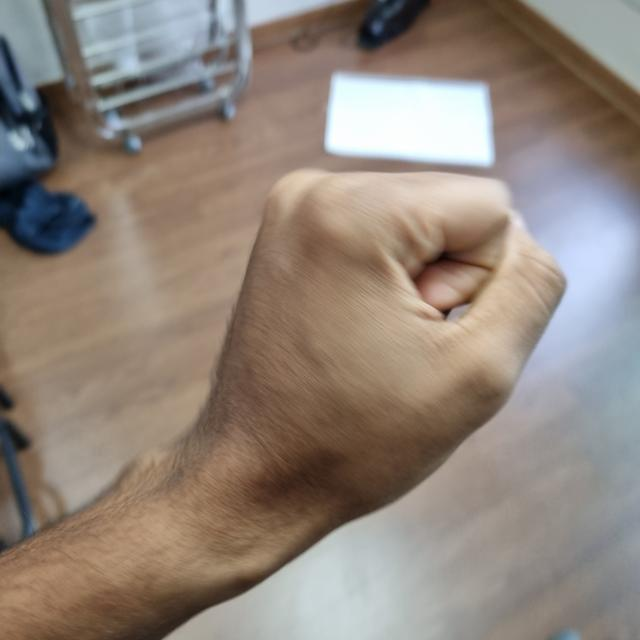Rock: (193, 172, 550, 545)
